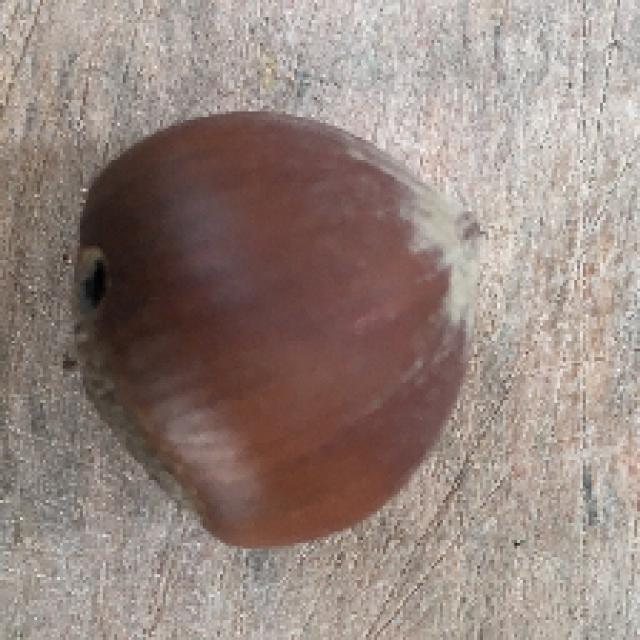damagedHazelnut: (75, 108, 484, 549)
